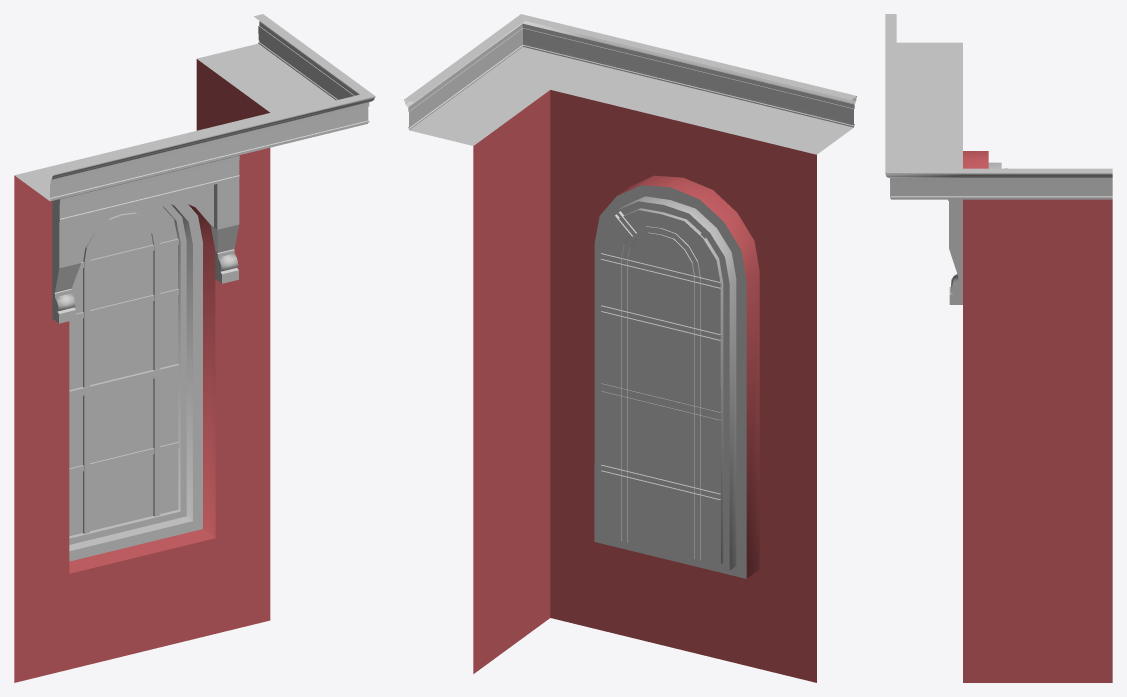
Rendered from station_window_arch_large_corner.fbx.
3 renders of one model, left to right at view 1: azimuth 30°, elevation 25°; view 2: azimuth 150°, elevation 25°; view 3: azimuth 270°, elevation 25°, orthographic. The views are drawn at different scales.
Visible parts, largest first — view 1: window_arch_large_corner; view 2: window_arch_large_corner; view 3: window_arch_large_corner.
Boxes of the visible parts, x1,y1,x2,y2 form: window_arch_large_corner: (14,14,375,682); window_arch_large_corner: (404,14,856,682); window_arch_large_corner: (885,14,1112,682).
Size of the model in its own units: 2.27 by 3.6 by 1.37.
